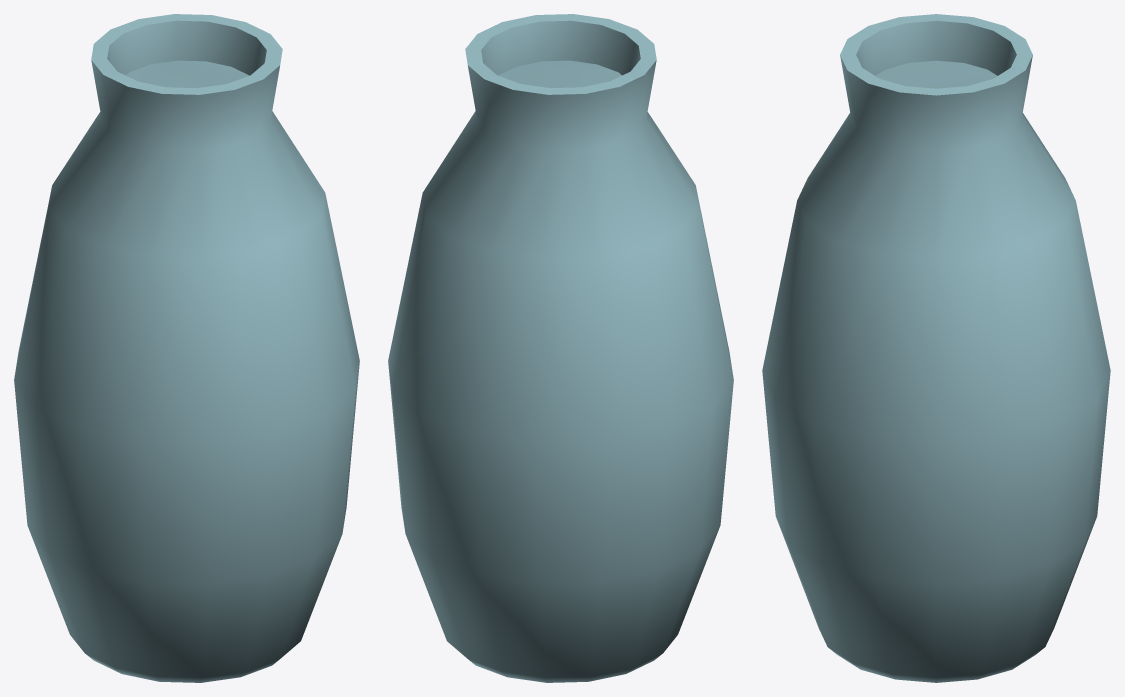
Rendered from vaseEmpty.glb.
3 views of the same model, side by side, from view 1: azimuth 30°, elevation 25°; view 2: azimuth 150°, elevation 25°; view 3: azimuth 270°, elevation 25° (orthographic).
Parts seen in each view (by area): view 1: vase; view 2: vase; view 3: vase.
Boxes of the visible parts, <box> form: vase: <box>14,14,359,682</box>; vase: <box>388,14,733,682</box>; vase: <box>762,14,1110,682</box>.
Size of the model in its own units: 0.13 by 0.24 by 0.13.
